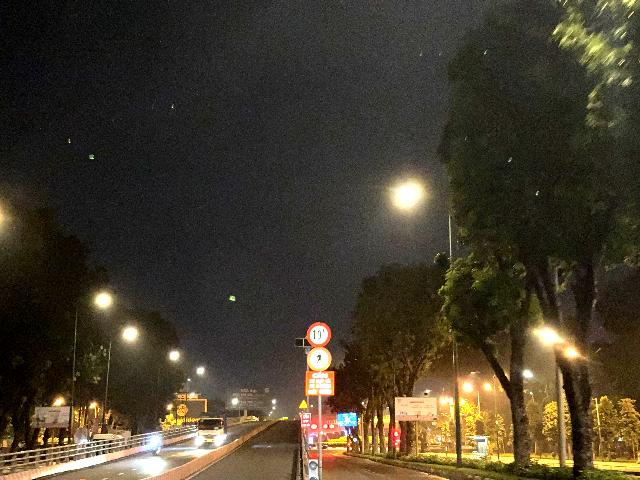cam-nguoi-di-bo: (307, 347, 332, 372)
han-che-trong-luong-xe: (306, 320, 332, 348)
